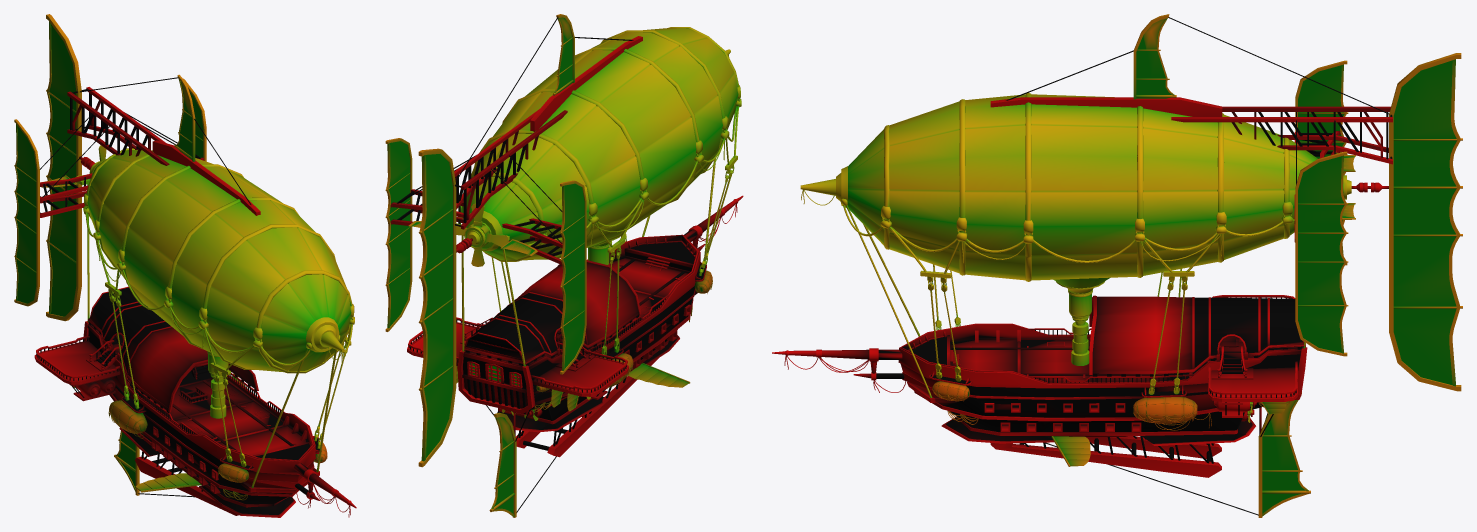
The model's file is ship.glb.
3 renders of one model, left to right at view 1: azimuth 30°, elevation 25°; view 2: azimuth 150°, elevation 25°; view 3: azimuth 270°, elevation 25°, orthographic. The views are drawn at different scales.
Parts seen in each view (by area): view 1: body, Wing_Back, Wing_R, Wing_Bottom_01, Wing_B_R, Wing_L; view 2: body, Wing_Back, Wing_R, Wing_L, Wing_Bottom_01, Air_Balloon_Propeller_L, Wing_B_R; view 3: body, Wing_Back, Wing_L, Wing_Bottom_01, Wing_R, Wing_B_L.
Boxes of the visible parts, <box> form: body: <box>34,74,356,517</box>; Wing_Back: <box>46,14,81,321</box>; Wing_R: <box>14,119,39,306</box>; Wing_Bottom_01: <box>114,431,139,495</box>; Wing_B_R: <box>135,473,201,492</box>; Wing_L: <box>183,78,206,161</box>; body: <box>390,14,743,512</box>; Wing_Back: <box>418,148,456,467</box>; Wing_R: <box>560,180,586,374</box>; Wing_L: <box>385,138,412,331</box>; Wing_Bottom_01: <box>489,412,516,517</box>; Air_Balloon_Propeller_L: <box>456,203,508,266</box>; Wing_B_R: <box>628,363,690,387</box>; body: <box>772,14,1392,515</box>; Wing_Back: <box>1389,53,1462,391</box>; Wing_L: <box>1295,151,1348,356</box>; Wing_Bottom_01: <box>1258,392,1310,517</box>; Wing_R: <box>1295,60,1348,265</box>; Wing_B_L: <box>1051,436,1090,466</box>.
Bounding box in the file's own units: 12.75 × 30.22 × 37.64.
